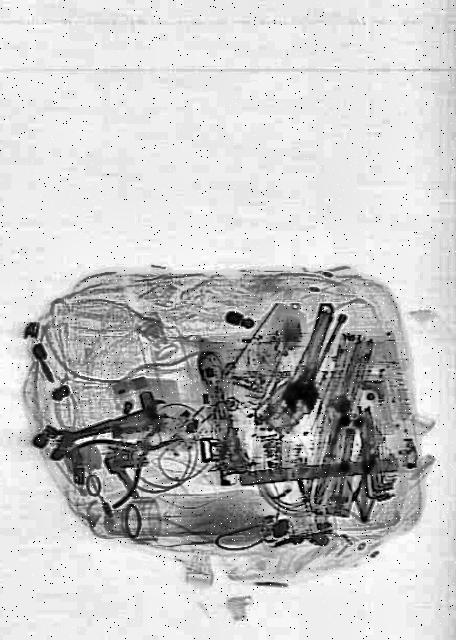Wrench: (282, 294, 344, 418), (54, 398, 170, 448)
